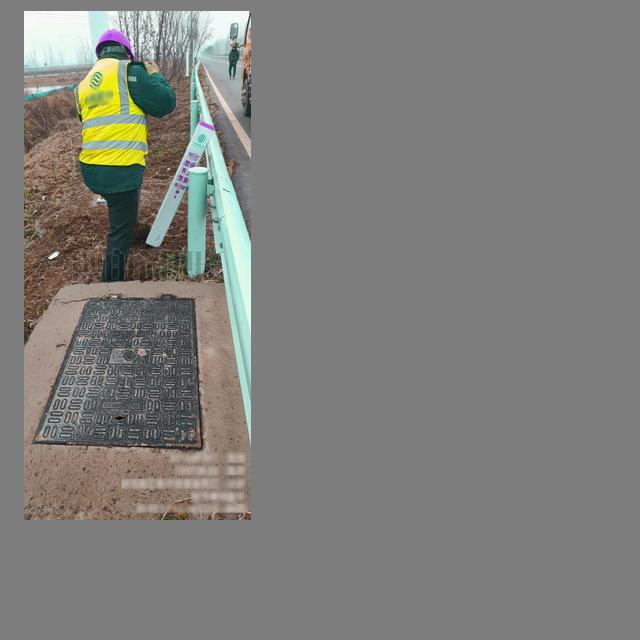good: (31, 292, 203, 448)
